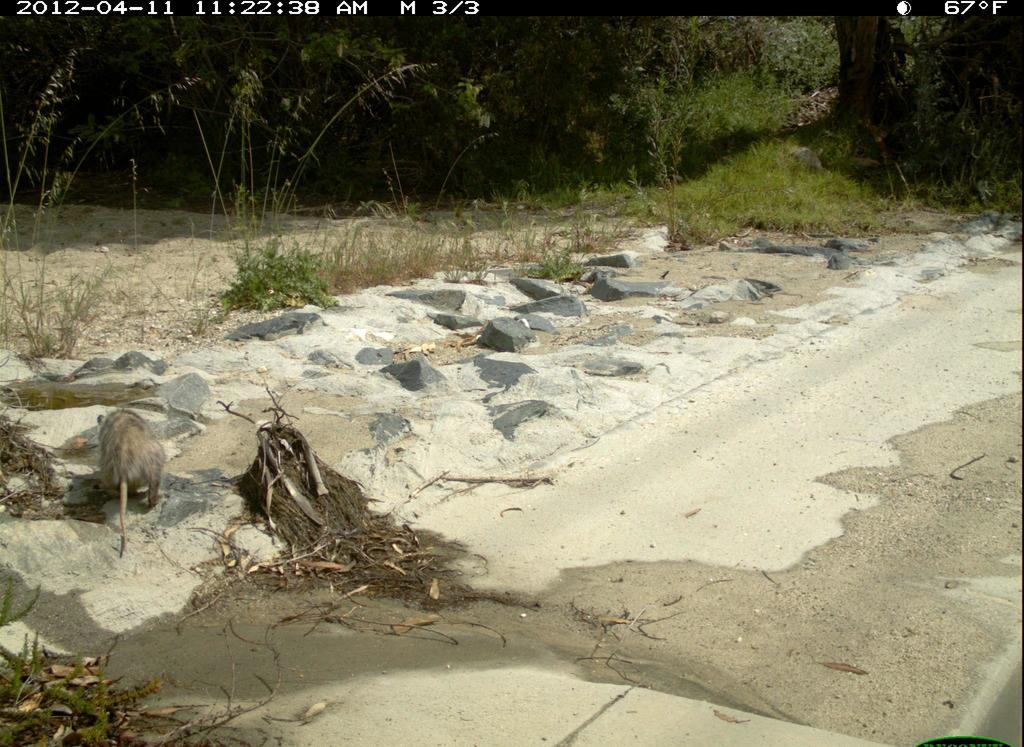opossum: (93, 404, 175, 553)
